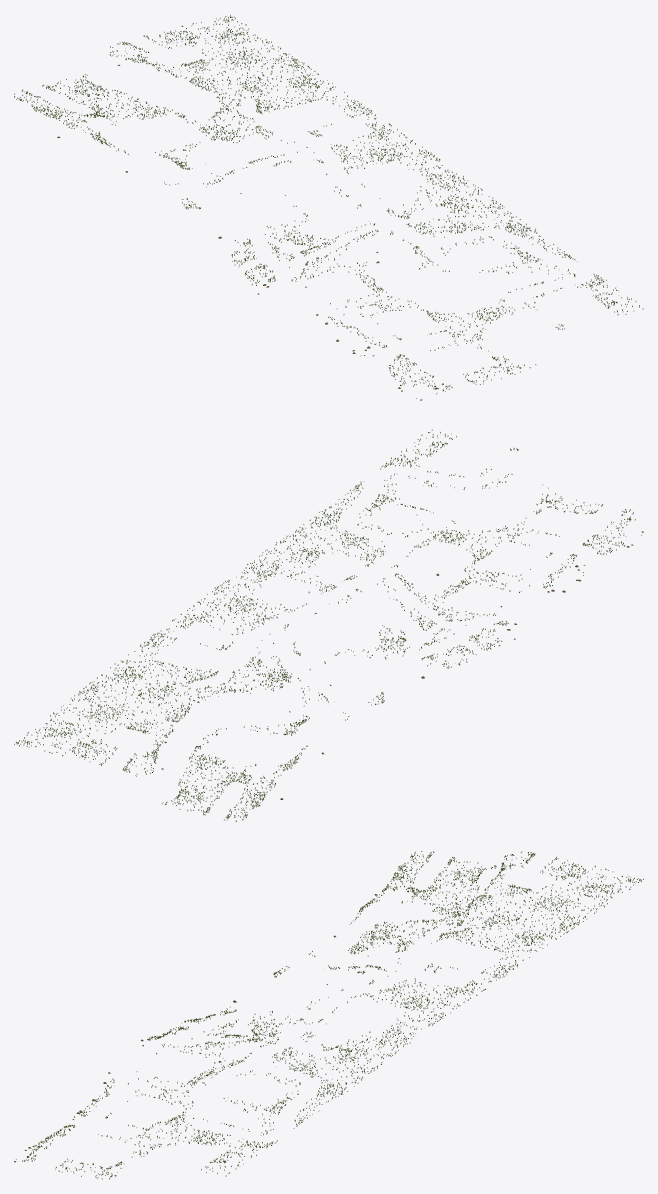
Rendered from ground_cover.glb.
The picture shows the model from 3 angles, top to bottom: view 1: azimuth 30°, elevation 25°; view 2: azimuth 150°, elevation 25°; view 3: azimuth 330°, elevation 25°; orthographic projection.
Parts seen in each view (by area): view 1: Solid_G23_LivingGrass; view 2: Solid_G23_LivingGrass; view 3: Solid_G23_LivingGrass.
Part boxes in pixels (<box>): Solid_G23_LivingGrass: <box>14,14,643,394</box>; Solid_G23_LivingGrass: <box>14,429,635,821</box>; Solid_G23_LivingGrass: <box>22,851,643,1179</box>.
Bounding box in the file's own units: 22.45 × 4.32 × 68.16.
